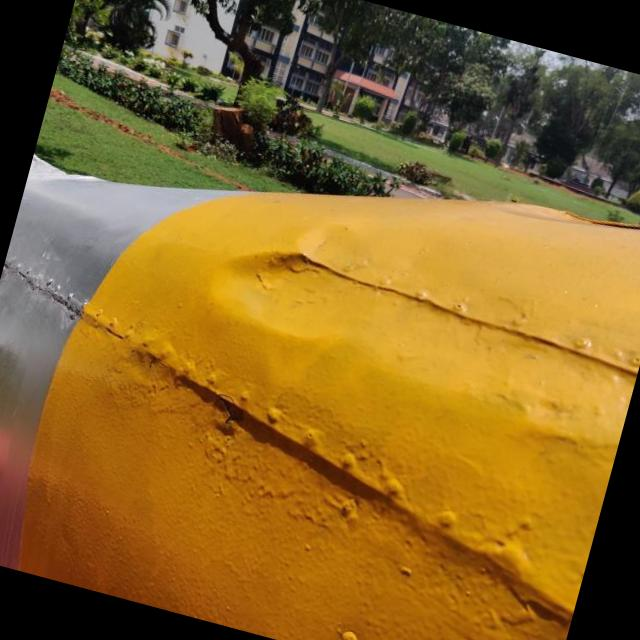Dent: (208, 253, 392, 350)
